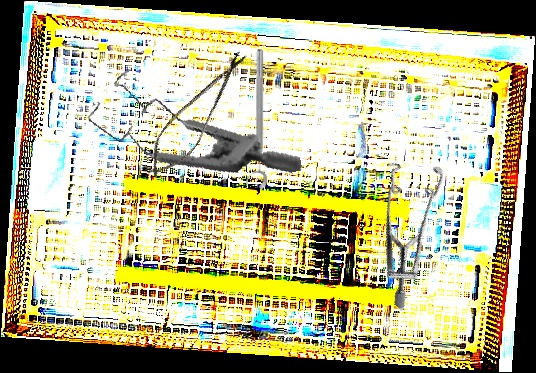Fixation Ring: (245, 49, 267, 190)
Micro Scissor: (135, 40, 258, 189)
Speculum: (79, 37, 303, 215), (321, 140, 489, 312)
